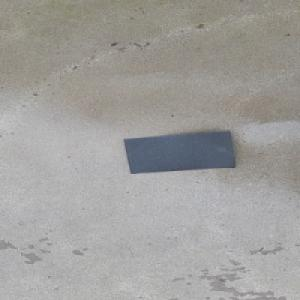PaintChip: (123, 130, 235, 174)
